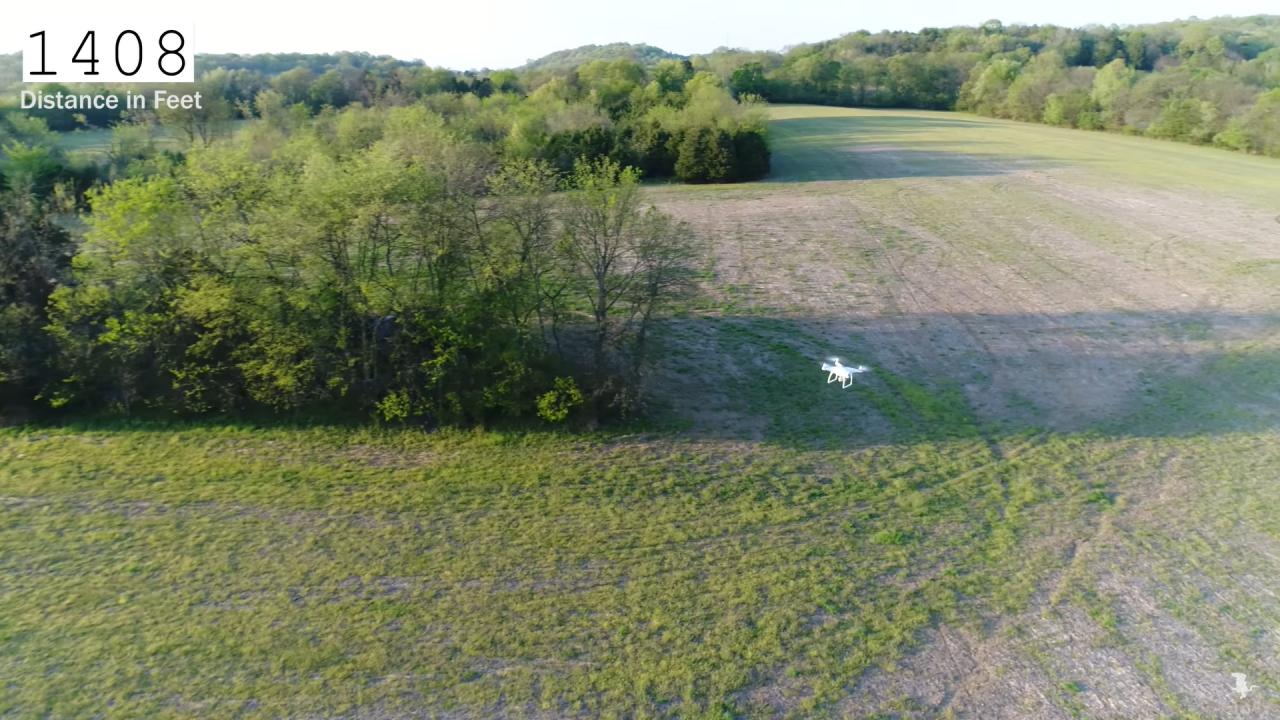Drone: (811, 352, 879, 394)
